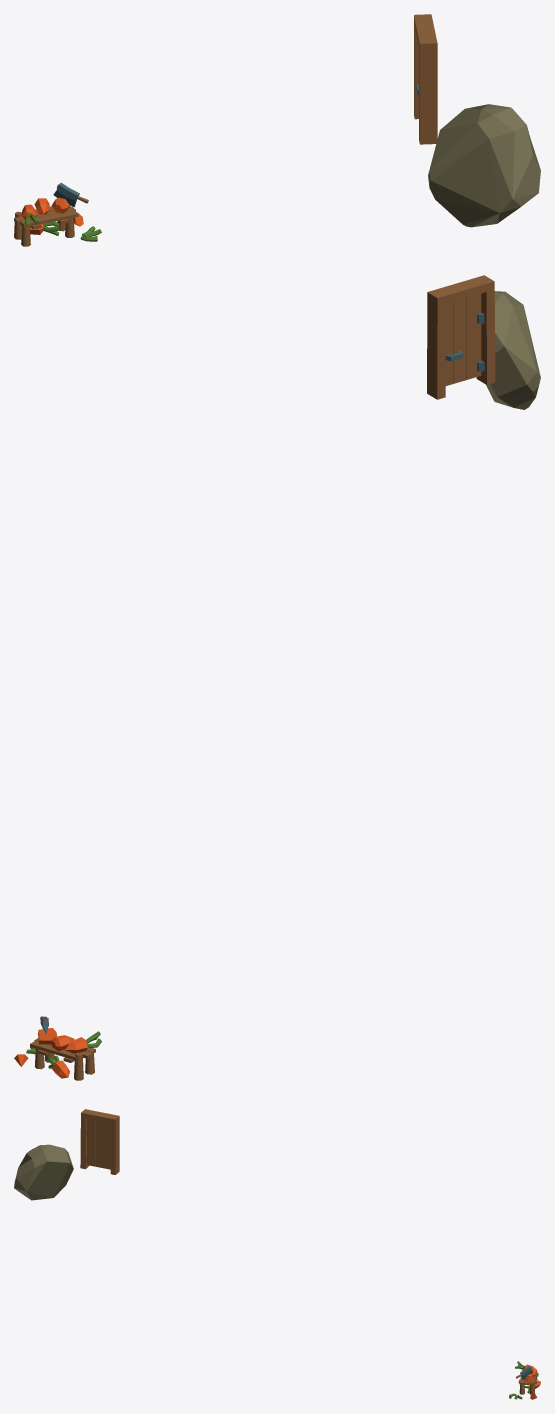
The picture shows the model from 3 angles, top to bottom: view 1: azimuth 30°, elevation 25°; view 2: azimuth 150°, elevation 25°; view 3: azimuth 270°, elevation 25°; orthographic projection. The views are drawn at different scales.
Parts seen in each view (by area): view 1: Box15764_rock2_0, Object271_brown_0, Object233_brown_0, Box15386_metal_0; view 2: Object271_brown_0, Box15764_rock2_0, Object233_brown_0; view 3: Box15764_rock2_0, Object271_brown_0.
Part boxes in pixels (left/top/right/bottom): Box15764_rock2_0: left=428, top=104, right=540, bottom=227; Object271_brown_0: left=414, top=14, right=437, bottom=144; Object233_brown_0: left=14, top=206, right=78, bottom=246; Box15386_metal_0: left=53, top=182, right=79, bottom=207; Object271_brown_0: left=427, top=275, right=495, bottom=399; Box15764_rock2_0: left=486, top=291, right=540, bottom=409; Object233_brown_0: left=30, top=1038, right=95, bottom=1080; Box15764_rock2_0: left=14, top=1144, right=73, bottom=1200; Object271_brown_0: left=80, top=1109, right=119, bottom=1174.
Size of the model in its own units: 214 by 1153 by 2012.
